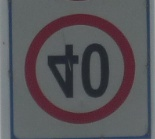Speed limit: (17, 12, 140, 128)
